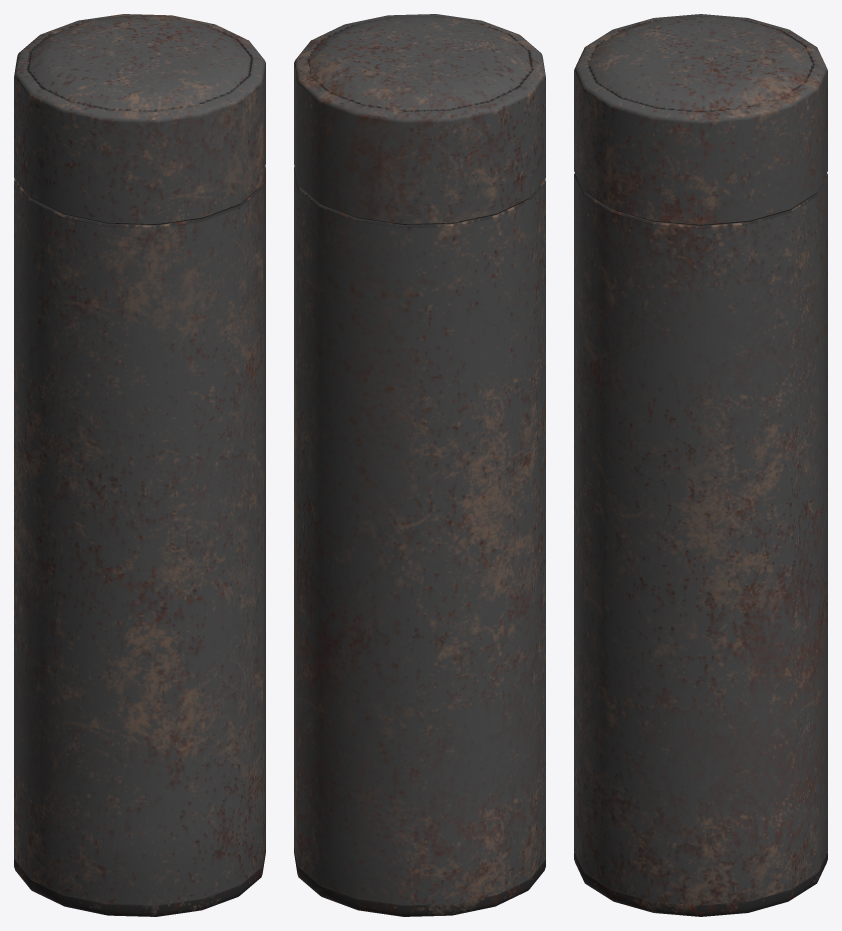
Rendered from BottleWater2.fbx.
3 views of the same model, side by side, from view 1: azimuth 30°, elevation 25°; view 2: azimuth 150°, elevation 25°; view 3: azimuth 270°, elevation 25° (orthographic).
Visible parts, largest first — view 1: BotleWater2; view 2: BotleWater2; view 3: BotleWater2.
Part boxes in pixels (<box>): BotleWater2: <box>14,14,265,916</box>; BotleWater2: <box>294,14,545,916</box>; BotleWater2: <box>574,14,827,916</box>.
Size of the model in its own units: 6.5 by 22.99 by 6.5.
